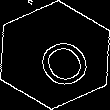O_NW: (20, 23, 90, 87)
